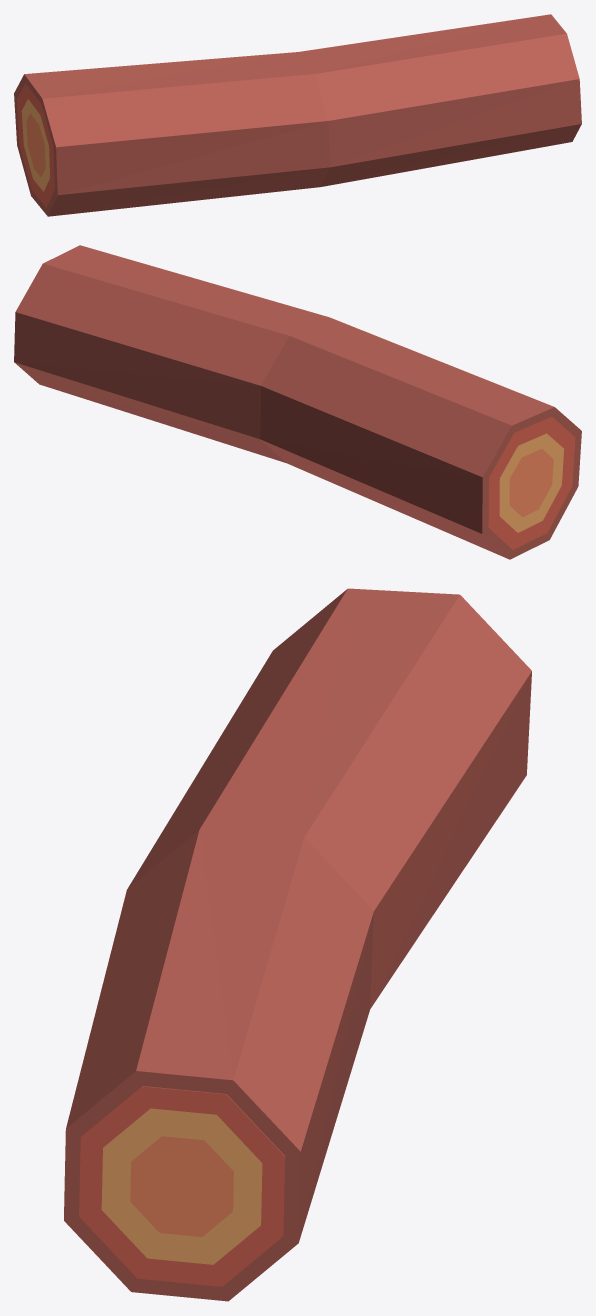
The model's file is Log3_summer.FBX.
The picture shows the model from 3 angles, top to bottom: view 1: azimuth 30°, elevation 25°; view 2: azimuth 150°, elevation 25°; view 3: azimuth 270°, elevation 25°; orthographic projection. The views are drawn at different scales.
Visible parts, largest first — view 1: brevno summer; view 2: brevno summer; view 3: brevno summer.
Part boxes in pixels (box(x1,y1,x2,y2)): brevno summer: box(14, 14, 581, 216); brevno summer: box(14, 245, 581, 559); brevno summer: box(64, 588, 531, 1301).
Size of the model in its own units: 3.19 by 0.7515 by 1.31.
